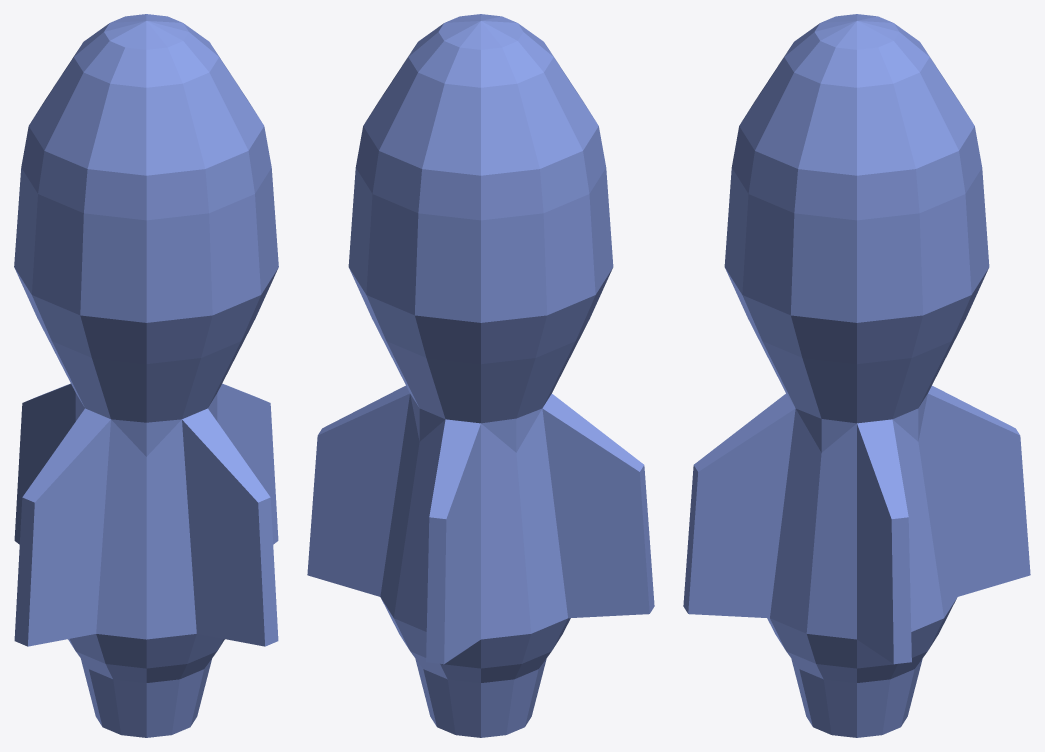
The model's file is Missile 8.fbx.
The picture shows the model from 3 angles, left to right: view 1: azimuth 30°, elevation 25°; view 2: azimuth 150°, elevation 25°; view 3: azimuth 270°, elevation 25°; orthographic projection.
Visible parts, largest first — view 1: Cube.007; view 2: Cube.007; view 3: Cube.007.
Boxes of the visible parts, x1,y1,x2,y2 form: Cube.007: (14,14,278,737); Cube.007: (307,14,654,737); Cube.007: (683,14,1030,737).
Bounding box in the file's own units: 256 × 566 × 256.
